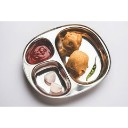bonda: (67, 50, 90, 73), (62, 31, 83, 52)
